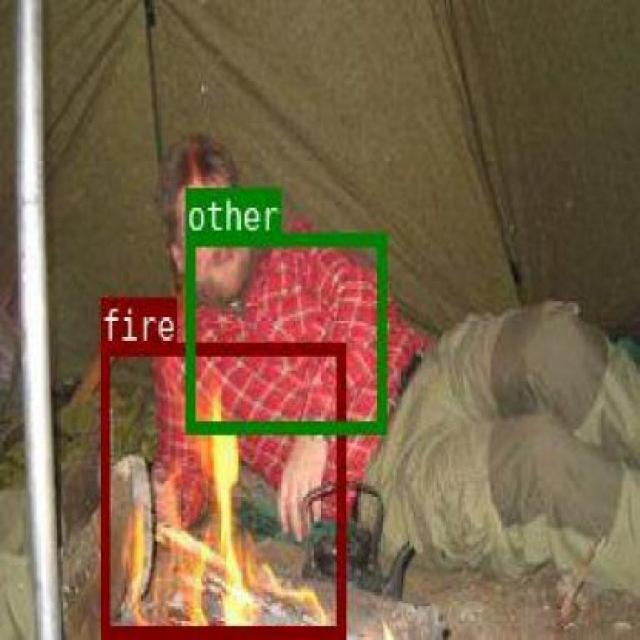fire: (100, 342, 342, 635)
